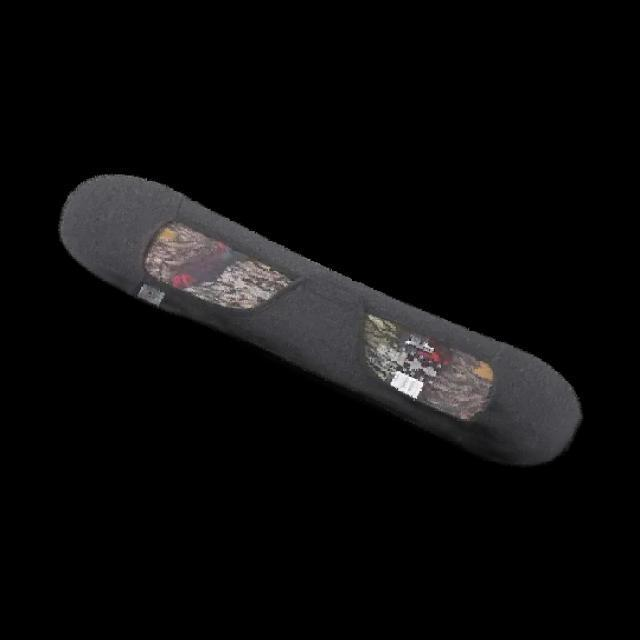Snowboard: (57, 171, 583, 468)
